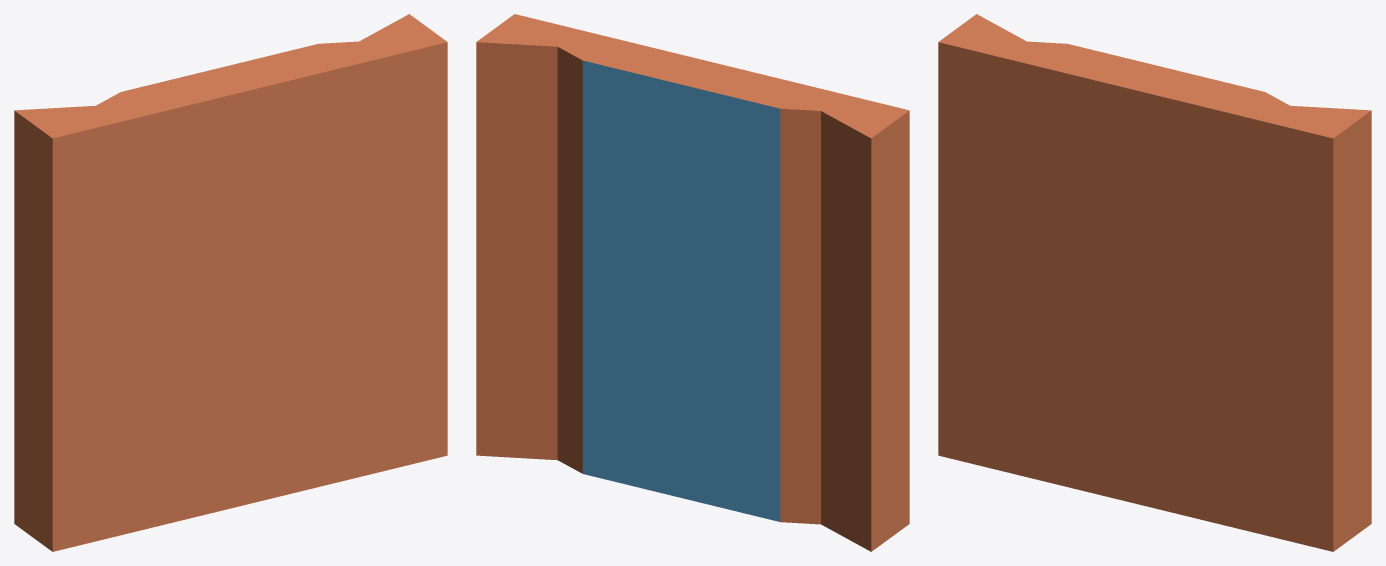
Rendered from cliff_waterfall_rock.glb.
3 renders of one model, left to right at view 1: azimuth 30°, elevation 25°; view 2: azimuth 150°, elevation 25°; view 3: azimuth 330°, elevation 25°, orthographic.
Parts seen in each view (by area): view 1: cliff_waterfall_rock; view 2: cliff_waterfall_rock; view 3: cliff_waterfall_rock.
Part boxes in pixels (<box>): cliff_waterfall_rock: <box>14,14,447,551</box>; cliff_waterfall_rock: <box>476,14,909,551</box>; cliff_waterfall_rock: <box>938,14,1371,551</box>.
Size of the model in its own units: 1 by 1 by 0.1685.
